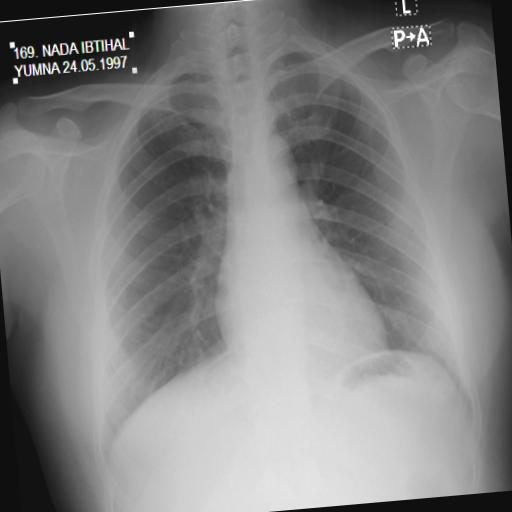normal: (59, 16, 494, 482)
